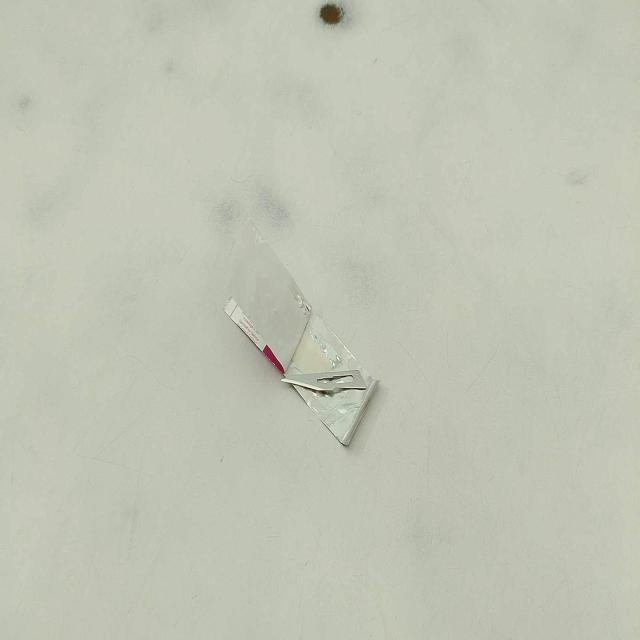General: (2, 3, 636, 635), (221, 217, 381, 449), (280, 307, 380, 448)
Sharps: (222, 294, 367, 397)
